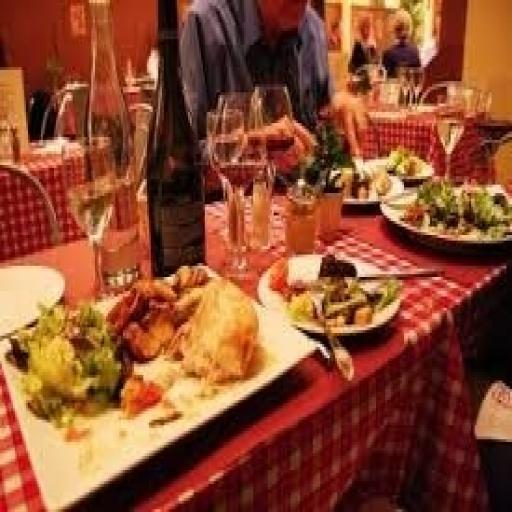eating: (175, 0, 369, 165)
